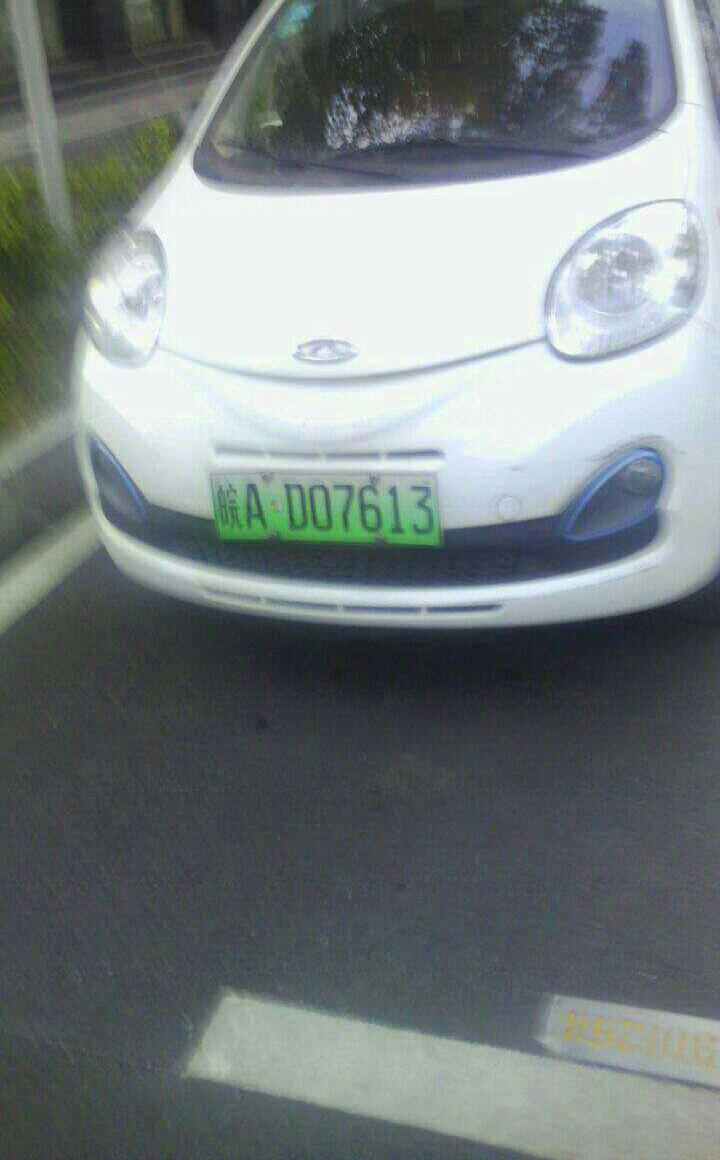car_id: (209, 474, 442, 547)
